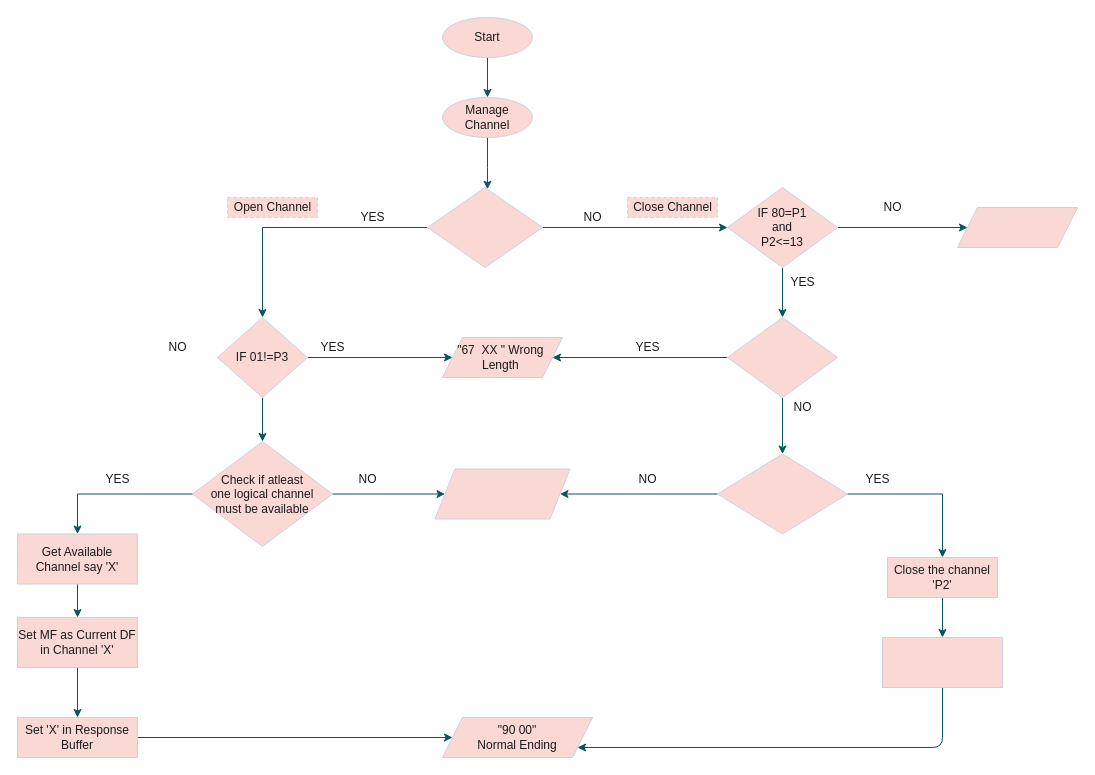
This 1095x775 diagram has some shape labels left out. The shapes that lost their labels are listed below. From the top down, each one's box as (x1, y1, x2, y2) in pixels, then its label:
(426, 186, 542, 268): IF 00=P1 and 00=P2
(956, 206, 1078, 248): "6B 00" Wrong Parameters
(726, 316, 838, 398): IF 00!=P3
(434, 468, 570, 519): "6A 81" Exception Function not Supported
(716, 453, 848, 534): IF 00<P2 and P2<04
(882, 636, 1002, 688): Clear the Channel Context Data from Channel 'P2'
